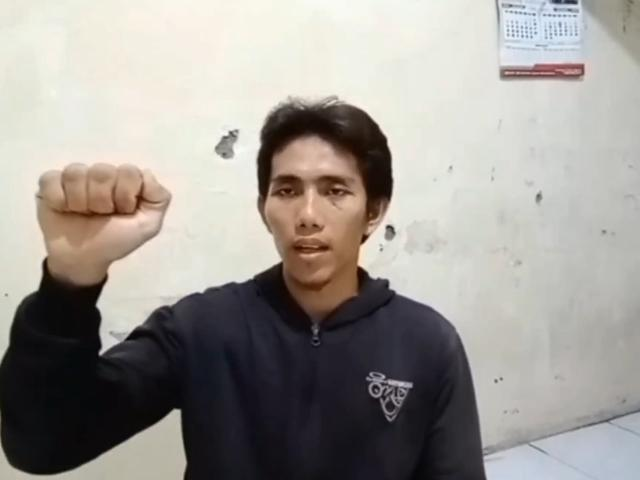A: (30, 158, 174, 268)
